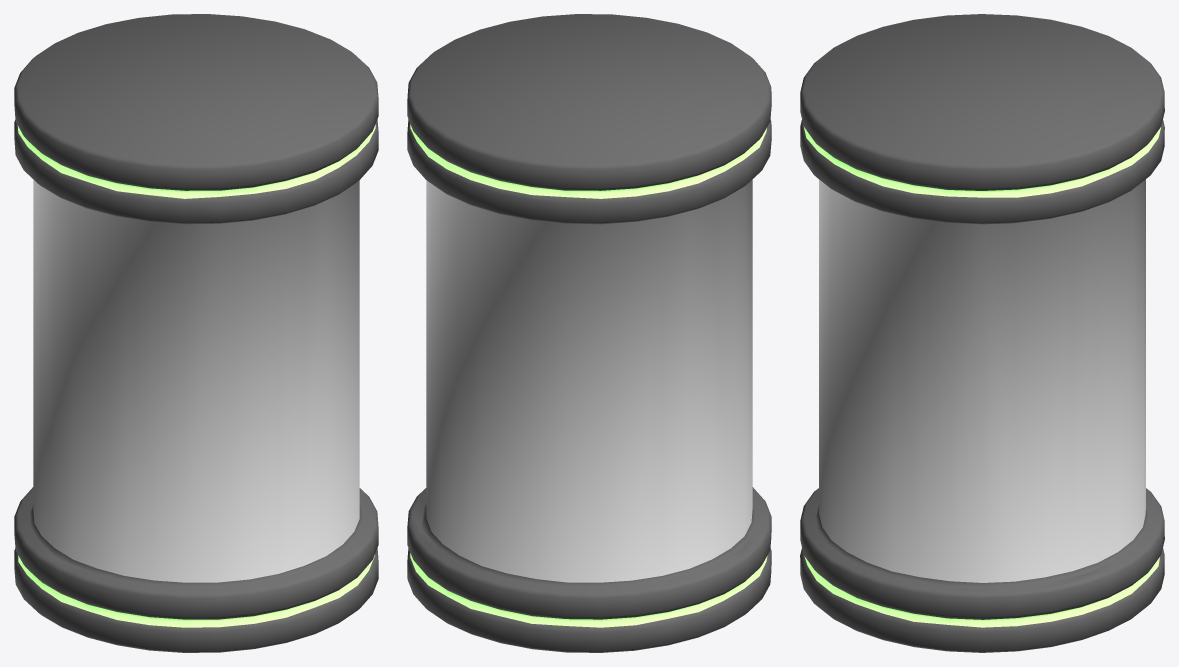
File: Clone Chamber.fbx
The picture shows the model from 3 angles, left to right: view 1: azimuth 30°, elevation 25°; view 2: azimuth 150°, elevation 25°; view 3: azimuth 270°, elevation 25°; orthographic projection.
Parts seen in each view (by area): view 1: Clone Chamber; view 2: Clone Chamber; view 3: Clone Chamber.
Part boxes in pixels (x1,y1,x2,y2): Clone Chamber: (14, 14, 378, 652); Clone Chamber: (407, 14, 771, 652); Clone Chamber: (800, 14, 1164, 652).
Size of the model in its own units: 559 by 826 by 559.
